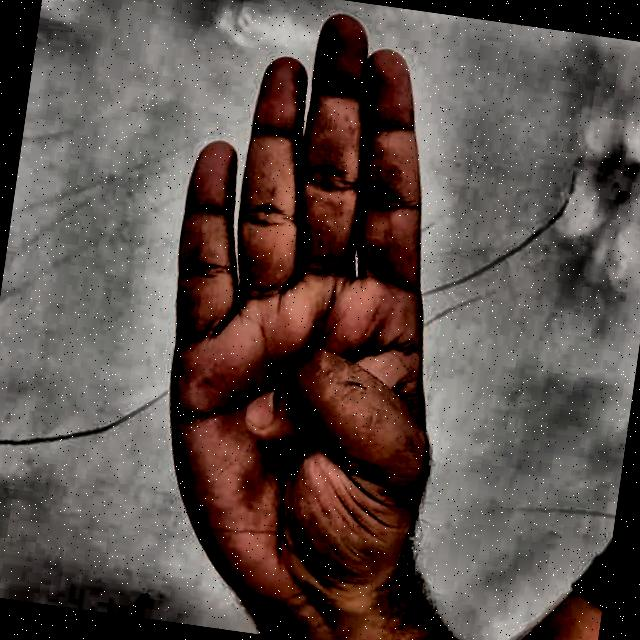Ba: (88, 0, 543, 640)
